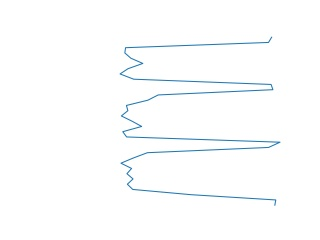majorRiverChannelBar: (117, 37, 282, 207)
